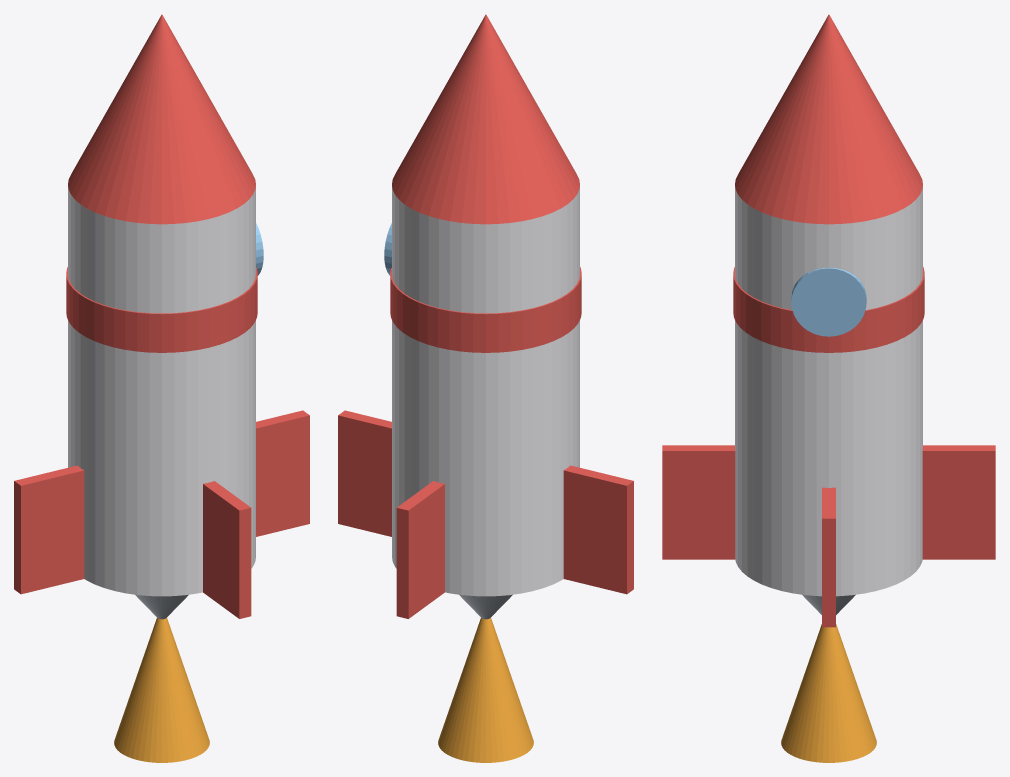
The model's file is rocket.glb.
3 renders of one model, left to right at view 1: azimuth 30°, elevation 25°; view 2: azimuth 150°, elevation 25°; view 3: azimuth 270°, elevation 25°, orthographic.
Visible parts, largest first — view 1: RocketBody, RocketNose, RocketPlume, RocketFin_3, RocketStripe, RocketFin_1, RocketFin_0, RocketNozzle; view 2: RocketBody, RocketNose, RocketPlume, RocketFin_3, RocketStripe, RocketFin_1, RocketFin_2, RocketNozzle; view 3: RocketBody, RocketNose, RocketFin_0, RocketFin_2, RocketPlume, RocketStripe, RocketWindow, RocketFin_1.
Boxes of the visible parts, <box> form: RocketBody: <box>68,186,255,596</box>; RocketNose: <box>68,14,255,224</box>; RocketPlume: <box>114,618,209,762</box>; RocketFin_3: <box>14,465,84,594</box>; RocketStripe: <box>66,267,257,352</box>; RocketFin_1: <box>256,410,309,536</box>; RocketFin_0: <box>203,481,251,618</box>; RocketNozzle: <box>135,594,188,619</box>; RocketBody: <box>392,186,579,596</box>; RocketNose: <box>392,14,579,224</box>; RocketPlume: <box>438,618,533,762</box>; RocketFin_3: <box>563,465,633,594</box>; RocketStripe: <box>390,267,581,352</box>; RocketFin_1: <box>338,410,391,536</box>; RocketFin_2: <box>396,481,444,618</box>; RocketNozzle: <box>459,594,512,619</box>; RocketBody: <box>735,186,922,596</box>; RocketNose: <box>735,14,922,224</box>; RocketFin_0: <box>662,445,735,559</box>; RocketFin_2: <box>922,445,995,559</box>; RocketPlume: <box>781,624,876,762</box>; RocketStripe: <box>733,267,924,352</box>; RocketWindow: <box>791,267,866,336</box>; RocketFin_1: <box>822,487,835,627</box>.
Size of the model in its own units: 1.95 by 4.7 by 1.95.
